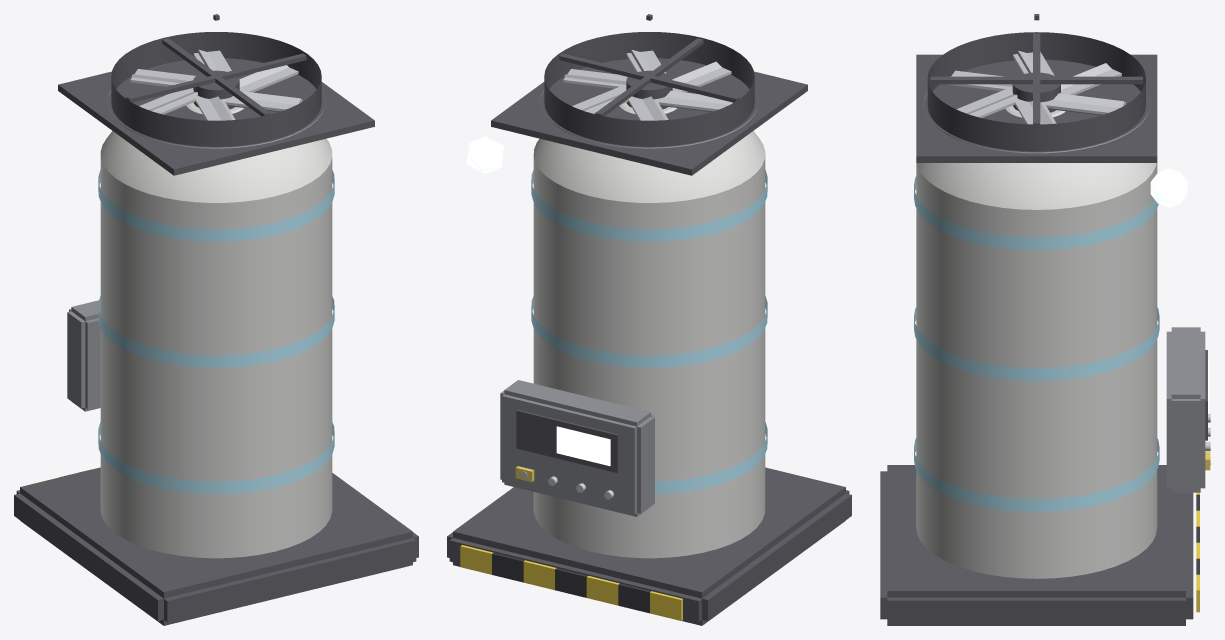
Rendered from base_o2gen.fbx.
3 renders of one model, left to right at view 1: azimuth 30°, elevation 25°; view 2: azimuth 150°, elevation 25°; view 3: azimuth 270°, elevation 25°, orthographic. The views are drawn at different scales.
Parts seen in each view (by area): view 1: base_o2gen, Spin_Y_Fan; view 2: base_o2gen, Spin_Y_Fan, Indicator; view 3: base_o2gen, Spin_Y_Fan, Indicator.
Part boxes in pixels (bbox=[...]): base_o2gen: bbox=[14, 32, 418, 625]; Spin_Y_Fan: bbox=[130, 49, 302, 120]; base_o2gen: bbox=[447, 32, 851, 625]; Spin_Y_Fan: bbox=[563, 49, 733, 120]; Indicator: bbox=[466, 136, 503, 173]; base_o2gen: bbox=[880, 32, 1210, 625]; Spin_Y_Fan: bbox=[947, 50, 1125, 124]; Indicator: bbox=[1150, 168, 1187, 207].
Bounding box in the file's own units: 1.3 × 2.51 × 1.37.
